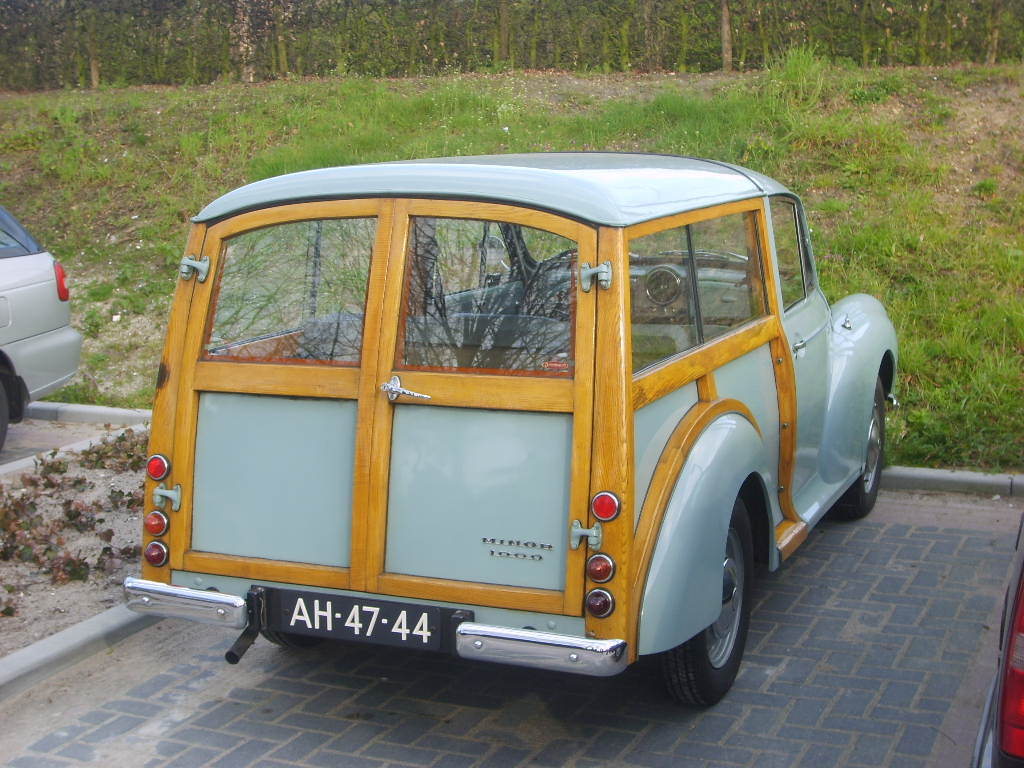mobil: (160, 175, 909, 678)
